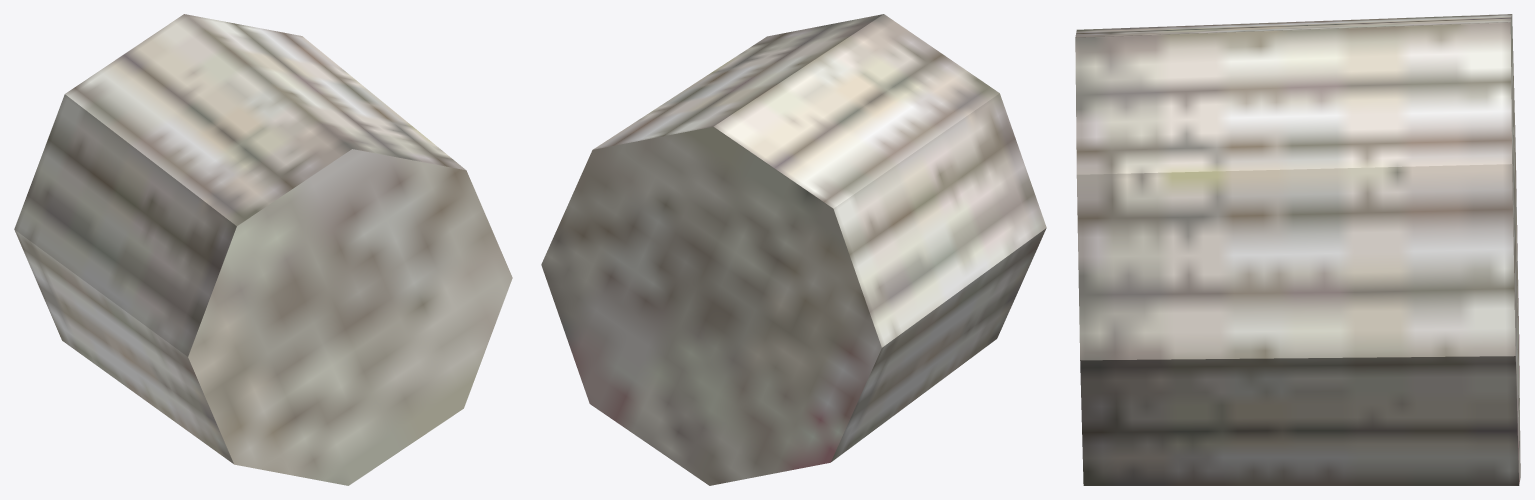
The model's file is column_fallen_e.dae.
3 views of the same model, side by side, from view 1: azimuth 30°, elevation 25°; view 2: azimuth 150°, elevation 25°; view 3: azimuth 270°, elevation 25° (orthographic). The views are drawn at different scales.
Visible parts, largest first — view 1: broken001-Pivot; view 2: broken001-Pivot; view 3: broken001-Pivot.
Boxes of the visible parts, x1=… form: broken001-Pivot: x1=14, y1=14, x2=512, y2=485; broken001-Pivot: x1=541, y1=14, x2=1046, y2=485; broken001-Pivot: x1=1075, y1=14, x2=1520, y2=485.
Bounding box in the file's own units: 1.6 × 1.42 × 1.6.
